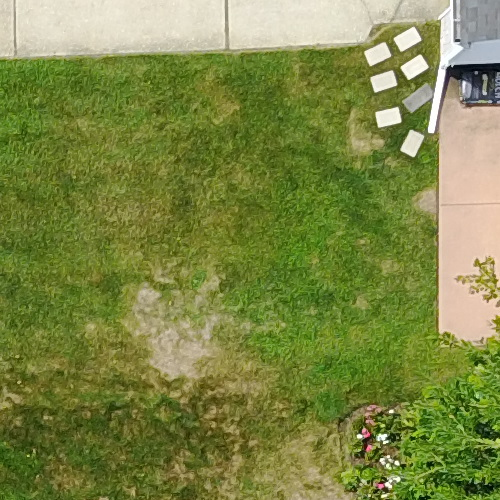gutter: (426, 59, 452, 153)
